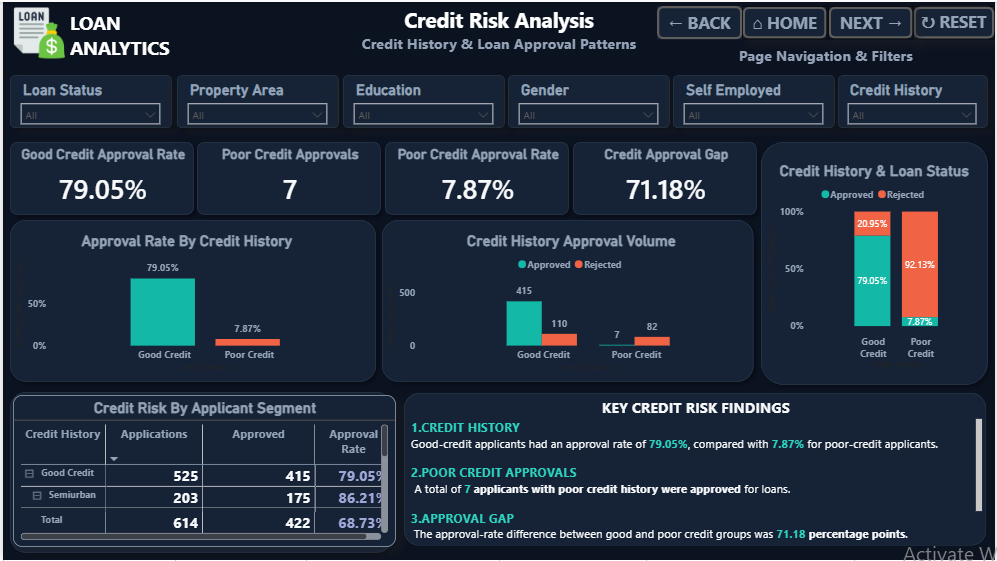

What the dashboard file says about the page in this screenshot:
{"tool":"powerbi","page":{"name":"Credit Risk Analysis","canvas":[1280,720],"ordinal":4},"visuals":[{"type":"textbox","box":[0,0,1279.8,79.4],"z":0},{"type":"group","id":"g1","title":"Group 3","box":[0,85,226.8,86.5],"z":0,"group":"g12"},{"type":"shape","box":[969.4,171.5,310.8,331.5],"z":0,"group":"g13"},{"type":"shape","box":[0,272,490.4,226.8],"z":0,"group":"g14"},{"type":"shape","box":[480.5,272,497.4,226.8],"z":0,"group":"g16"},{"type":"group","id":"g2","title":"Group 6","box":[12.8,0,323.1,96.4],"z":1000},{"type":"group","id":"g3","title":"Group 3","box":[215.4,85,226.8,86.5],"z":1000,"group":"g12"},{"type":"hundredPercentStackedColumnChart","title":"Credit History & Loan Status","fields":{"Category":["loan_data.credit_history"],"Y":["loan_data.approved_applicants","loan_data.rejected_applications"]},"box":[979.7,206.5,289.8,271.8],"z":1000,"group":"g13"},{"type":"clusteredColumnChart","title":"Credit History Approval Volume","fields":{"Category":["loan_data.credit_history"],"Y":["loan_data.approved_applicants","loan_data.rejected_applications"]},"box":[488.9,296,489.1,185.6],"z":1000,"group":"g16"},{"type":"clusteredColumnChart","title":"Approval Rate By Credit History","fields":{"Y":["loan_data.Demographic Approval Rate"],"Category":["loan_data.credit_history"]},"box":[8.5,296.1,456.4,185.7],"z":1000,"group":"g14"},{"type":"shape","box":[0,494.6,511.7,225.4],"z":1000,"group":"g18"},{"type":"group","id":"g4","title":"Group 3","box":[429.4,85,226.8,86.5],"z":2000,"group":"g12"},{"type":"group","id":"g5","title":"Group 7","box":[0,171.5,255.1,112],"z":2000},{"type":"group","id":"g6","title":"Group 3","box":[642,85,226.8,86.5],"z":3000,"group":"g12"},{"type":"group","id":"g7","title":"Group 7","box":[240.9,171.5,255.1,112],"z":3000},{"type":"pivotTable","title":"Credit Risk By Applicant Segment","fields":{"Rows":["loan_data.credit_history","loan_data.property_area","loan_data.education"],"Values":["loan_data.total_applications","loan_data.approved_applicants","loan_data.approval_rate"]},"box":[12.5,507.7,493.6,196.5],"z":3000,"group":"g18"},{"type":"shape","box":[0,85,226.8,86.5],"z":4000,"group":"g1"},{"type":"shape","box":[215.4,85,226.8,86.5],"z":4000,"group":"g3"},{"type":"shape","box":[429.4,85,226.8,86.5],"z":4000,"group":"g4"},{"type":"shape","box":[642,85,226.8,86.5],"z":4000,"group":"g6"},{"type":"group","id":"g8","title":"Group 3","box":[856.1,85,226.8,86.5],"z":4000,"group":"g12"},{"type":"shape","box":[856.1,85,226.8,86.5],"z":4000,"group":"g8"},{"type":"shape","box":[1068.7,85,211.2,86.5],"z":4000,"group":"g10"},{"type":"shape","box":[0,171.5,255.1,112],"z":4000,"group":"g5"},{"type":"shape","box":[240.9,171.5,255.1,112],"z":4000,"group":"g7"},{"type":"group","id":"g9","title":"Group 7","box":[483.3,171.5,255.1,112],"z":4000},{"type":"shape","box":[483.3,171.5,255.1,112],"z":4000,"group":"g9"},{"type":"shape","box":[727.1,171.5,255.1,112],"z":4000,"group":"g11"},{"type":"group","id":"g10","title":"Group 3","box":[1068.7,85,211.2,86.5],"z":5000,"group":"g12"},{"type":"group","id":"g11","title":"Group 7","box":[727.1,171.5,255.1,112],"z":5000},{"type":"cardVisual","title":"Good Credit Approval Rate","fields":{"Data":["loan_data.Good Credit Approval Rate"]},"box":[17.5,185.9,223,86.5],"z":5000,"group":"g5"},{"type":"cardVisual","title":"Poor Credit Approvals","fields":{"Data":["loan_data.Poor Credit Approvals"]},"box":[258.4,185.9,223,86.5],"z":5000,"group":"g7"},{"type":"cardVisual","title":"Poor Credit Approval Rate","fields":{"Data":["loan_data.Poor Credit Approval Rate"]},"box":[500.8,185.9,223,86.5],"z":5000,"group":"g9"},{"type":"cardVisual","title":"Credit Approval Gap","fields":{"Data":["loan_data.Credit Approval Gap"]},"box":[744.6,185.9,223,86.5],"z":5000,"group":"g11"},{"type":"group","id":"g12","title":"Group 4","box":[0,85,1279.8,86.5],"z":6000},{"type":"group","id":"g13","title":"Group 2","box":[969.4,171.5,310.4,331.7],"z":7000},{"type":"group","id":"g14","title":"Group 6","box":[0,272,490.4,226.8],"z":7000,"group":"g15"},{"type":"group","id":"g15","title":"Group 1","box":[0,272,978,226.8],"z":8000},{"type":"group","id":"g16","title":"Group 6","box":[480.5,272,497.5,226.8],"z":8000,"group":"g15"},{"type":"slicer","fields":{"Values":["loan_data.loan_status"]},"box":[12.8,96.7,199.8,63],"z":8003,"group":"g1"},{"type":"slicer","fields":{"Values":["loan_data.property_area"]},"box":[228.2,96.7,199.8,63],"z":8003,"group":"g3"},{"type":"slicer","fields":{"Values":["loan_data.education"]},"box":[442.2,96.7,199.8,63],"z":8003,"group":"g4"},{"type":"slicer","fields":{"Values":["loan_data.gender"]},"box":[654.8,96.7,199.8,63],"z":8003,"group":"g6"},{"type":"slicer","fields":{"Values":["loan_data.self_employed"]},"box":[868.9,96.7,199.8,63],"z":8003,"group":"g8"},{"type":"slicer","fields":{"Values":["loan_data.credit_history"]},"box":[1080.6,96.7,186.1,63],"z":8003,"group":"g10"},{"type":"textbox","box":[80.8,5.7,255.1,90.7],"z":9000,"group":"g2"},{"type":"shape","box":[517.3,504.6,751.2,197],"z":9000},{"type":"group","id":"g17","title":"Group 1","box":[520.2,505.9,748.3,198.6],"z":10000},{"type":"textbox","box":[520.2,505.9,748.3,52.4],"z":10000,"group":"g17"},{"type":"actionButton","box":[1174.2,5.7,105.8,42.9],"z":11000},{"type":"textbox","box":[521.4,533,746.9,171.5],"z":11000,"group":"g17"},{"type":"actionButton","box":[953.9,5.7,110.1,42.9],"z":12000},{"type":"actionButton","box":[1064,5.7,110.1,42.9],"z":13000},{"type":"actionButton","box":[843.8,5.7,110.1,42.9],"z":14000},{"type":"textbox","box":[844.3,51.4,435.7,44.3],"z":15000},{"type":"group","id":"g18","title":"Group 5","box":[0,494.6,511.7,225.4],"z":16000},{"type":"image","box":[12.8,0,68,79.4],"z":17000,"group":"g2"}]}

Visuals, with their boxes in screenshot pixels (x1, y1, x2, y2), scaled from the page's 1280x720 canvas onto the 997x561 screenshot:
textbox: rect(0, 0, 996, 62)
"Group 3" group: rect(0, 66, 177, 134)
shape: rect(755, 134, 996, 392)
shape: rect(0, 212, 382, 389)
shape: rect(374, 212, 762, 389)
"Group 6" group: rect(10, 0, 262, 75)
"Group 3" group: rect(168, 66, 344, 134)
"Credit History & Loan Status" hundredPercentStackedColumnChart: rect(763, 161, 989, 373)
"Credit History Approval Volume" clusteredColumnChart: rect(381, 231, 762, 375)
"Approval Rate By Credit History" clusteredColumnChart: rect(7, 231, 362, 375)
shape: rect(0, 385, 399, 560)
"Group 3" group: rect(334, 66, 511, 134)
"Group 7" group: rect(0, 134, 199, 221)
"Group 3" group: rect(500, 66, 677, 134)
"Group 7" group: rect(188, 134, 386, 221)
"Credit Risk By Applicant Segment" pivotTable: rect(10, 396, 394, 549)
shape: rect(0, 66, 177, 134)
shape: rect(168, 66, 344, 134)
shape: rect(334, 66, 511, 134)
shape: rect(500, 66, 677, 134)
"Group 3" group: rect(667, 66, 843, 134)
shape: rect(667, 66, 843, 134)
shape: rect(832, 66, 996, 134)
shape: rect(0, 134, 199, 221)
shape: rect(188, 134, 386, 221)
"Group 7" group: rect(376, 134, 575, 221)
shape: rect(376, 134, 575, 221)
shape: rect(566, 134, 765, 221)
"Group 3" group: rect(832, 66, 996, 134)
"Group 7" group: rect(566, 134, 765, 221)
"Good Credit Approval Rate" cardVisual: rect(14, 145, 187, 212)
"Poor Credit Approvals" cardVisual: rect(201, 145, 375, 212)
"Poor Credit Approval Rate" cardVisual: rect(390, 145, 564, 212)
"Credit Approval Gap" cardVisual: rect(580, 145, 754, 212)
"Group 4" group: rect(0, 66, 996, 134)
"Group 2" group: rect(755, 134, 996, 392)
"Group 6" group: rect(0, 212, 382, 389)
"Group 1" group: rect(0, 212, 762, 389)
"Group 6" group: rect(374, 212, 762, 389)
slicer - loan_data.loan_status: rect(10, 75, 166, 124)
slicer - loan_data.property_area: rect(178, 75, 333, 124)
slicer - loan_data.education: rect(344, 75, 500, 124)
slicer - loan_data.gender: rect(510, 75, 666, 124)
slicer - loan_data.self_employed: rect(677, 75, 832, 124)
slicer - loan_data.credit_history: rect(842, 75, 987, 124)
textbox: rect(63, 4, 262, 75)
shape: rect(403, 393, 988, 547)
"Group 1" group: rect(405, 394, 988, 549)
textbox: rect(405, 394, 988, 435)
actionButton: rect(915, 4, 996, 38)
textbox: rect(406, 415, 988, 549)
actionButton: rect(743, 4, 829, 38)
actionButton: rect(829, 4, 915, 38)
actionButton: rect(657, 4, 743, 38)
textbox: rect(658, 40, 996, 75)
"Group 5" group: rect(0, 385, 399, 560)
image: rect(10, 0, 63, 62)
